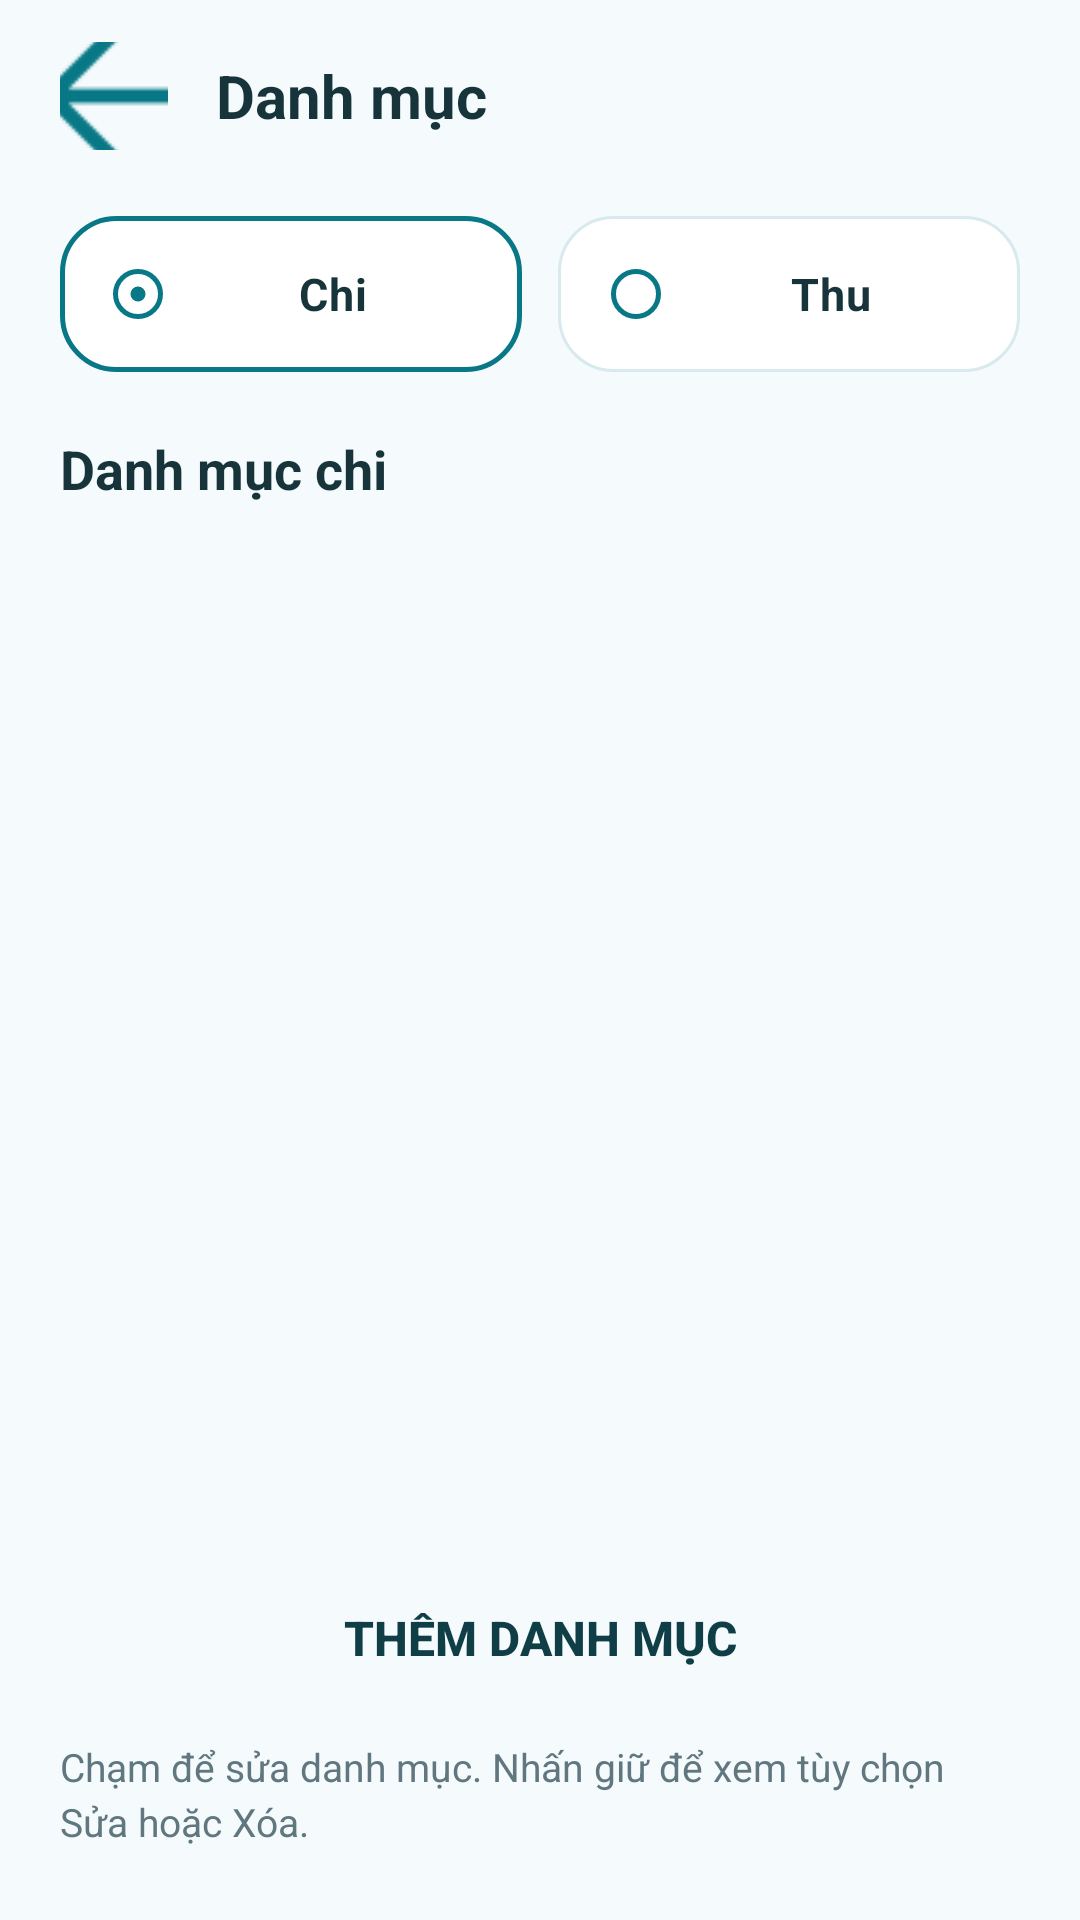

Screen size 1080 × 1920. Icon name, then its center in pixels as [x,y]:
Back: [114,96]
